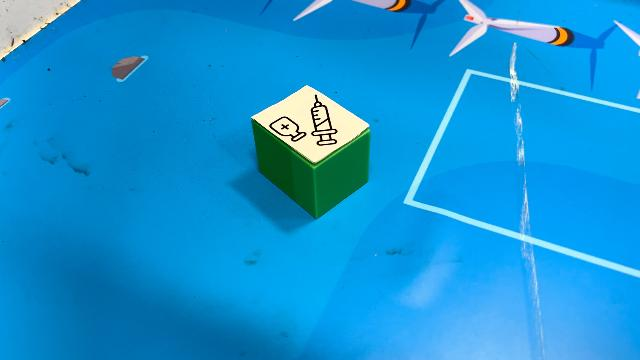syringe: (251, 84, 371, 220)
